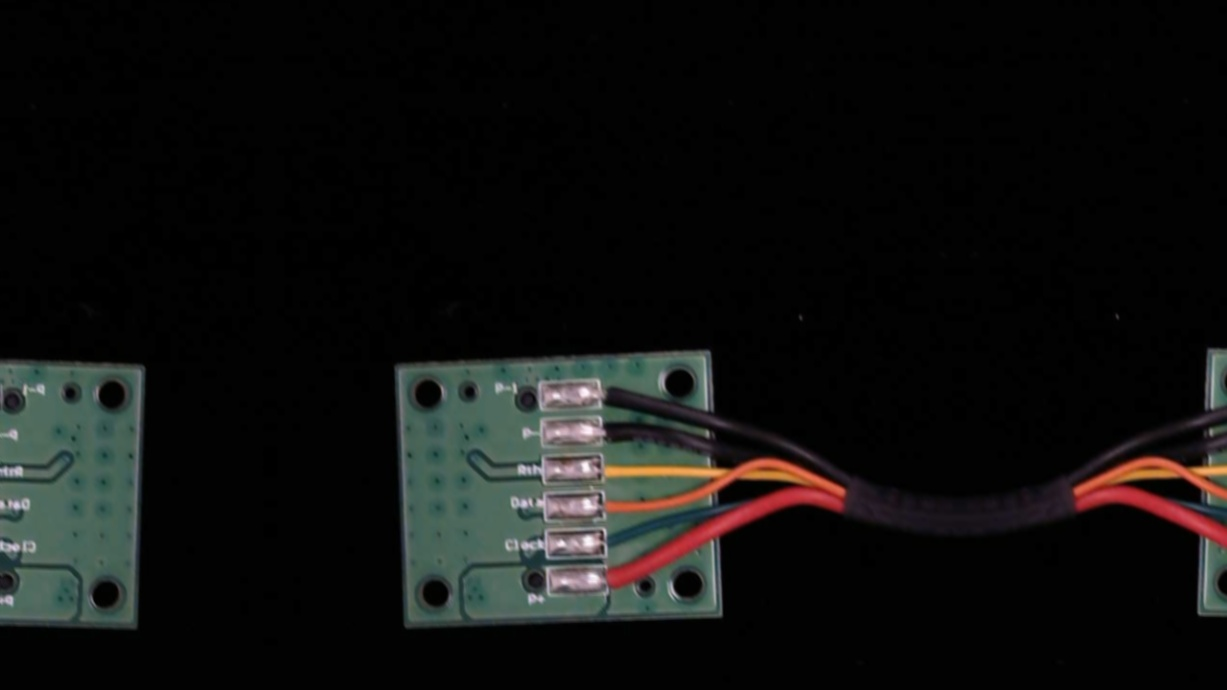Black: (583, 418, 645, 445)
Black1: (582, 378, 640, 407)
Green: (585, 530, 648, 558)
Orange: (584, 494, 646, 520)
Red: (587, 561, 655, 594)
Yellow: (584, 453, 645, 483)
